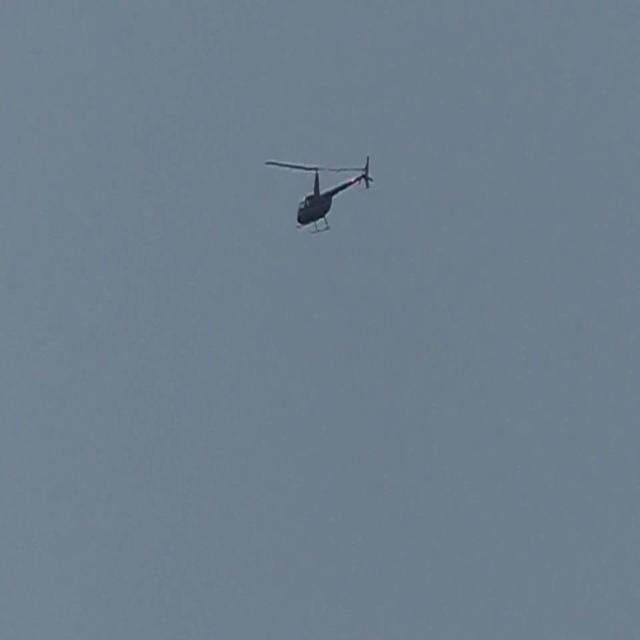CIV_HELO: (296, 153, 374, 236)
